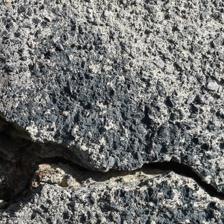Crack: (3, 56, 218, 149)
